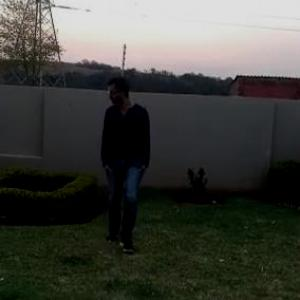follow: (99, 74, 151, 255)
